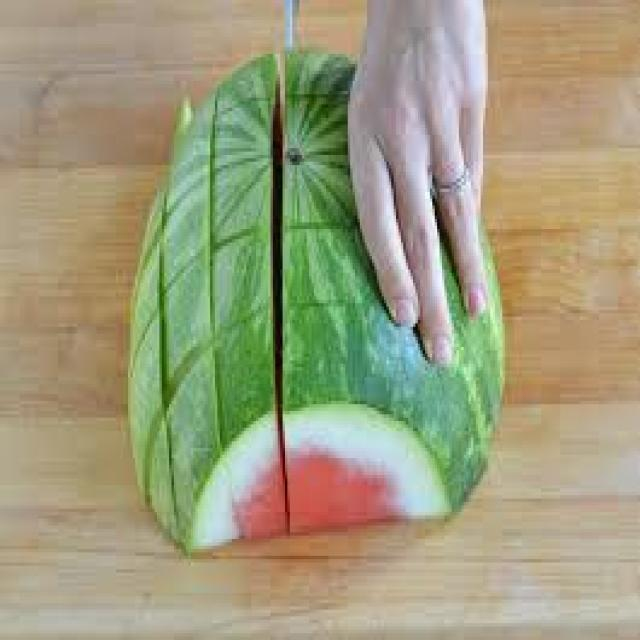watermelon: (126, 44, 504, 556)
